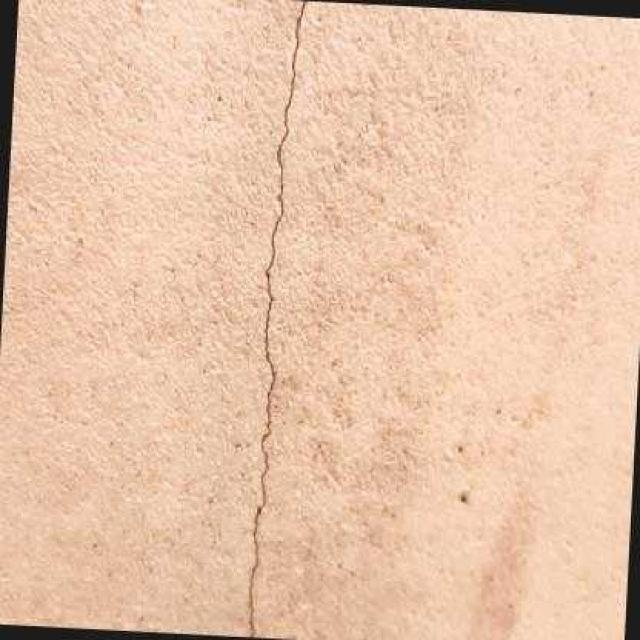D00: (245, 0, 305, 637)
